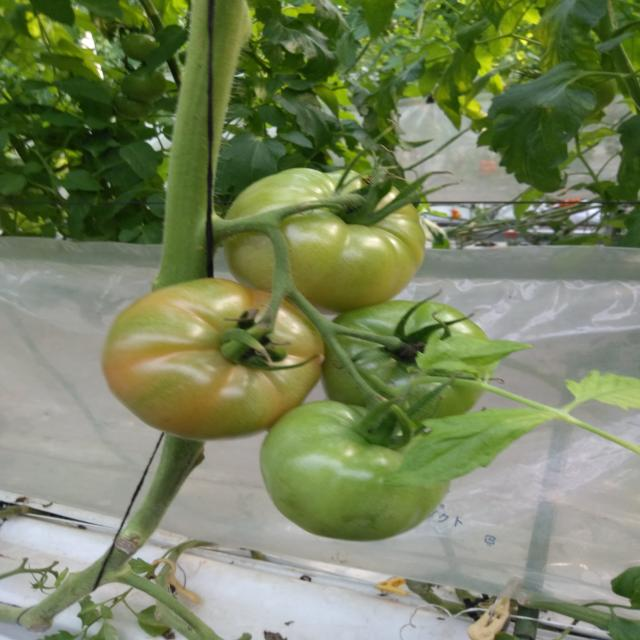n-half-riped: (100, 278, 324, 441), (222, 168, 426, 316)
n-unriped: (259, 400, 452, 541), (321, 299, 497, 419)
